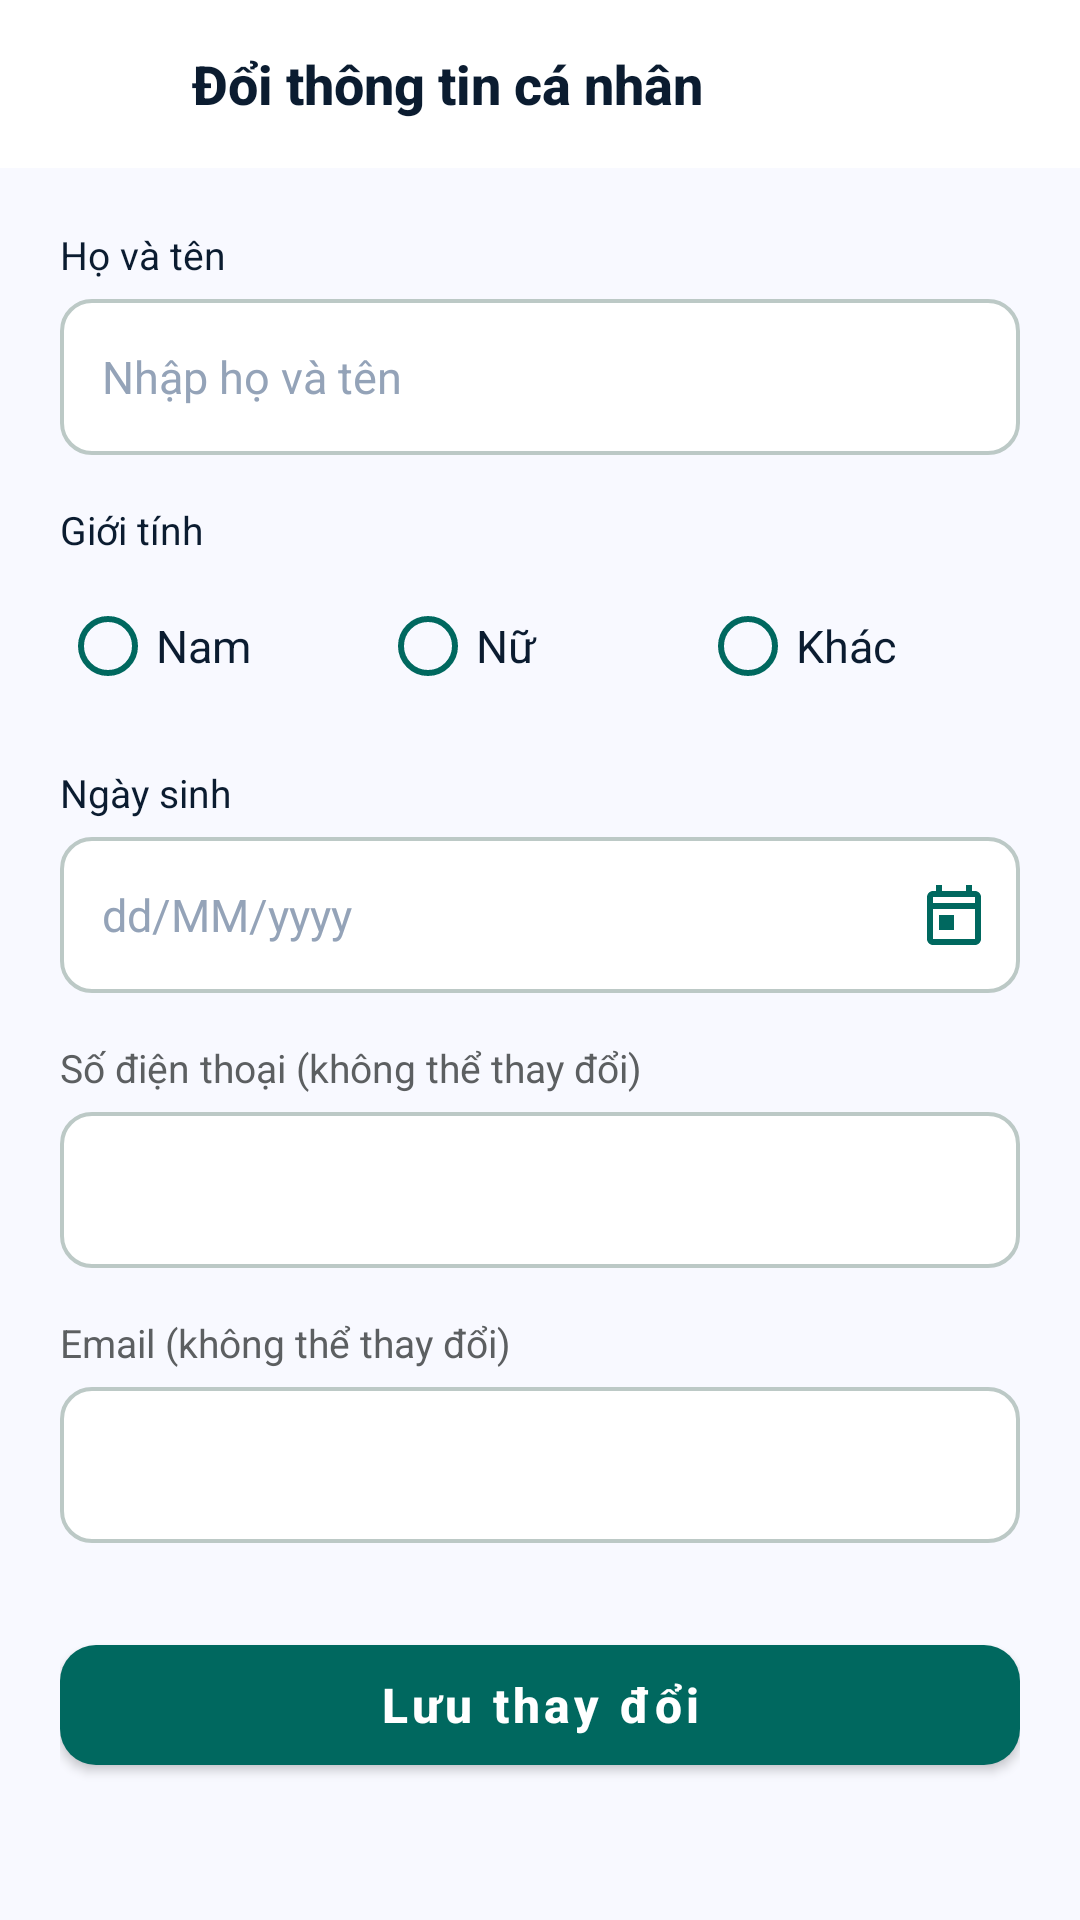

Where icons sit on this 1080 × 1920 app screen, as (x1,y1,x2,y2):
Chọn ngày sinh: (927,885,981,945)
